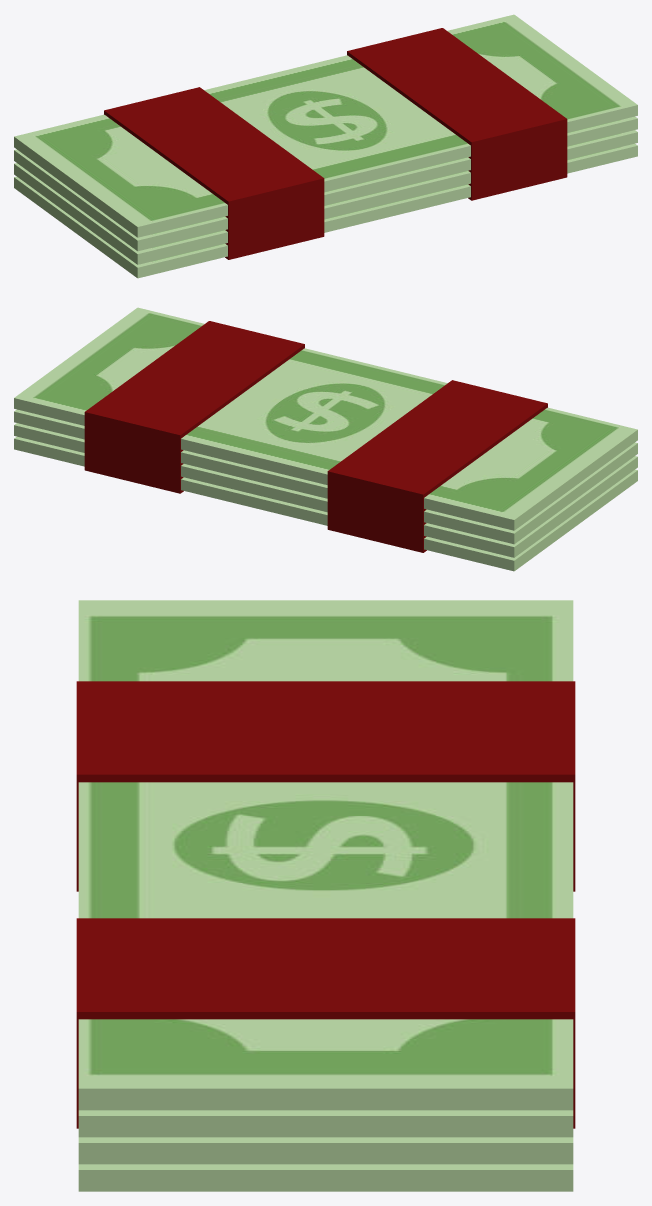
Rendered from Dollar.fbx.
3 renders of one model, top to bottom at view 1: azimuth 30°, elevation 25°; view 2: azimuth 150°, elevation 25°; view 3: azimuth 270°, elevation 25°, orthographic. The views are drawn at different scales.
Parts seen in each view (by area): view 1: Dollar; view 2: Dollar; view 3: Dollar.
Part boxes in pixels (box(x1,y1,x2,y2)): Dollar: box(14, 14, 637, 278); Dollar: box(14, 307, 637, 571); Dollar: box(76, 600, 575, 1191).
Bounding box in the file's own units: 1.49 × 0.1668 × 0.6446.
2 materials, 1 textured.
